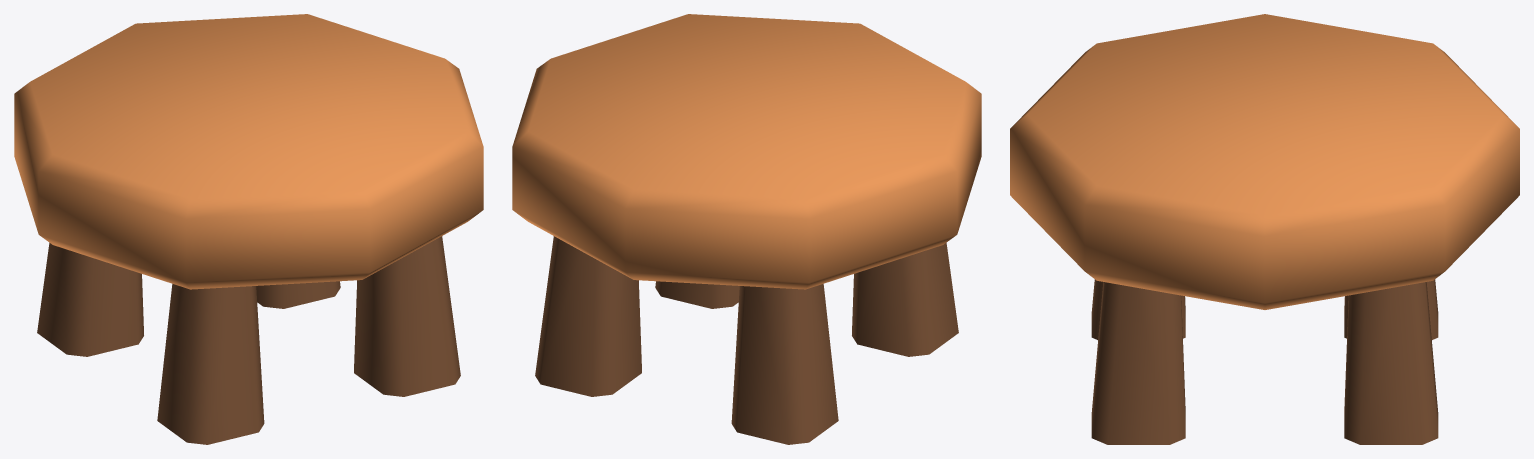
Rendered from Chair-2.fbx.
3 views of the same model, side by side, from view 1: azimuth 30°, elevation 25°; view 2: azimuth 150°, elevation 25°; view 3: azimuth 270°, elevation 25° (orthographic). The views are drawn at different scales.
Visible parts, largest first — view 1: Cylinder.202, Cube.757; view 2: Cylinder.202, Cube.757; view 3: Cylinder.202, Cube.757.
Part boxes in pixels (left/top/right/bottom): Cylinder.202: left=14, top=14, right=483, bottom=289; Cube.757: left=37, top=236, right=460, bottom=444; Cylinder.202: left=512, top=14, right=981, bottom=289; Cube.757: left=535, top=236, right=958, bottom=444; Cylinder.202: left=1010, top=14, right=1519, bottom=309; Cube.757: left=1091, top=279, right=1438, bottom=444.
Bounding box in the file's own units: 17.86 × 10.06 × 17.86.
